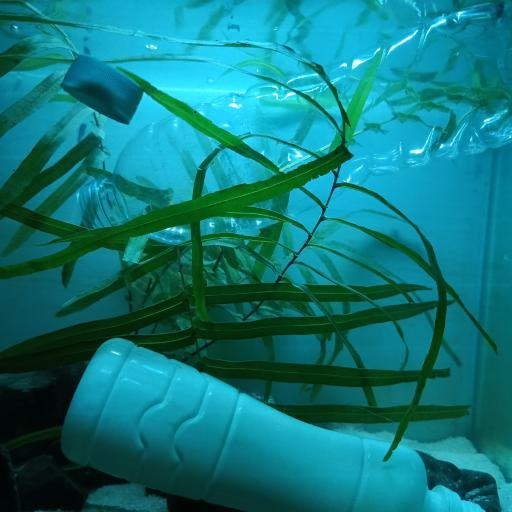bottle_cap: (60, 52, 146, 126)
plastic_bottle: (76, 9, 512, 239), (61, 338, 482, 512)
